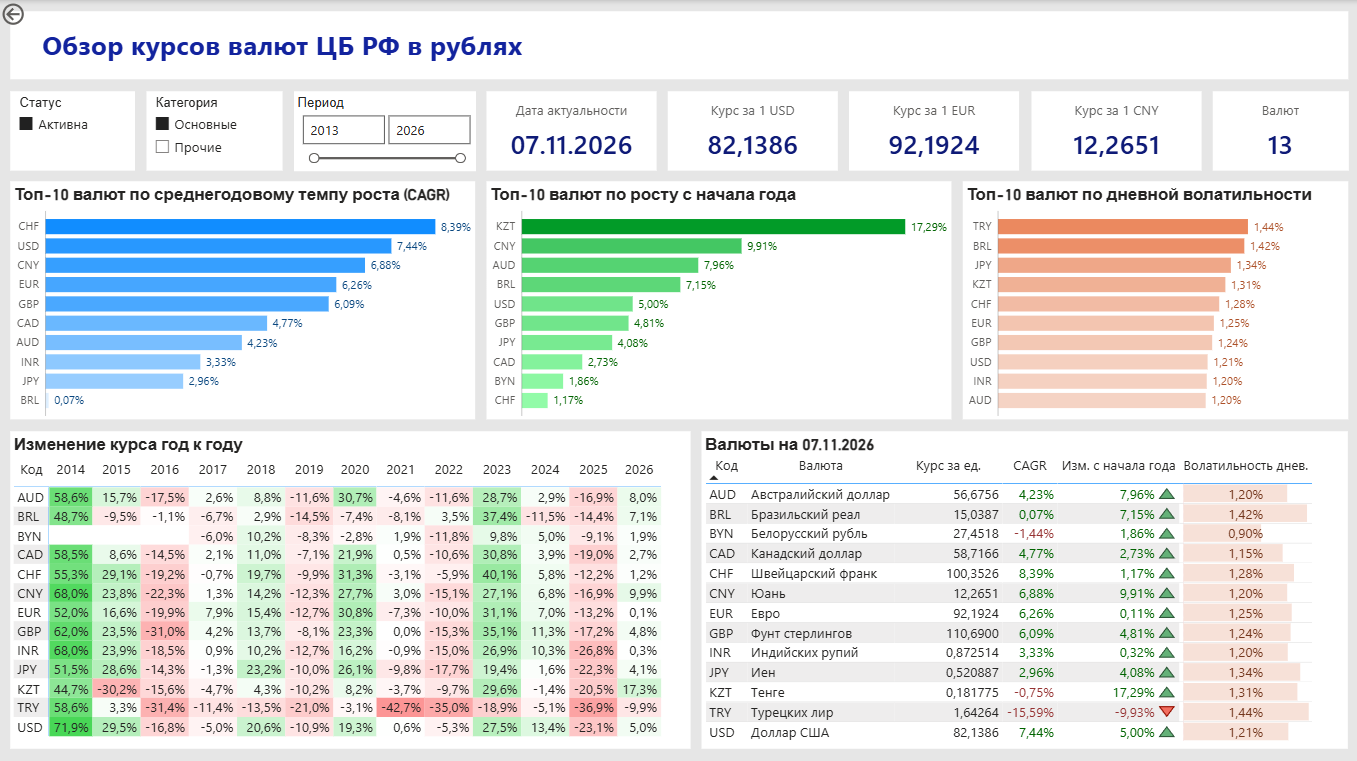

Layout of this report page (visuals, bound fields, positions):
{"tool":"powerbi","page":{"name":"Обзор рынка","canvas":[1920,1080],"ordinal":0},"visuals":[{"type":"textbox","box":[16,16,1888,96],"z":0},{"type":"slicer","fields":{"Values":["Валюты.Статус"]},"box":[16,128,176,112],"z":1000},{"type":"tableEx","fields":{"Values":["Валюты.Код валюты","Валюты.Наименование валюты","_Меры.Текущий курс","_Меры.CAGR с фильтр","_Меры.Изменение с начала года","_Меры.Волатильность (дневная)"]},"box":[992,608,912,448],"z":3000},{"type":"pivotTable","title":"Изменение курса год к году","fields":{"Columns":["Календарь.Год"],"Rows":["Валюты.Код валюты"],"Values":["_Меры.YoY % (конец года)"]},"box":[16,608,960,448],"z":4000},{"type":"barChart","title":"Топ-10 валют по дневной волатильности","fields":{"Category":["Валюты.Код валюты"],"Y":["_Меры.Волатильность (дневная)"]},"box":[1360,256,544,336],"z":5000},{"type":"actionButton","box":[0,0,100,40],"z":6000},{"type":"cardVisual","fields":{"Data":["_Меры.Текущий курс USD"]},"box":[944,128,240,112],"z":7000},{"type":"cardVisual","title":"Дата","fields":{"Data":["_Меры.Заголовок дата"]},"box":[688,128,240,112],"z":8000},{"type":"cardVisual","fields":{"Data":["_Меры.Текущий курс EUR"]},"box":[1200,128,240,112],"z":9000},{"type":"cardVisual","fields":{"Data":["_Меры.Текущий курс CNY"]},"box":[1456,128,240,112],"z":10000},{"type":"barChart","title":"Топ-10 валют по росту с начала года","fields":{"Category":["Валюты.Код валюты"],"Y":["_Меры.Изменение с начала года"]},"box":[688,256,656,336],"z":11000},{"type":"slicer","fields":{"Values":["Валюты.Категория"]},"box":[208,128,192,112],"z":12000},{"type":"barChart","title":"Топ-10 валют по среднегодовому темпу роста (CAGR)","fields":{"Category":["Валюты.Код валюты"],"Y":["_Меры.CAGR с фильтр"]},"box":[16,256,656,336],"z":13000},{"type":"cardVisual","fields":{"Data":["_Меры.Количество валют"]},"box":[1712,128,192,112],"z":14000},{"type":"slicer","title":"Период","fields":{"Values":["Календарь.Год"]},"box":[416,128,256,112],"z":15000}]}

Visuals, with their boxes in screenshot pixels (x1, y1, x2, y2), scaled from the page's 1920x1080 canvas onto the 1357x761 screenshot:
textbox: [left=11, top=11, right=1346, bottom=79]
slicer - Валюты.Статус: [left=11, top=90, right=136, bottom=169]
tableEx - Валюты.Код валюты x Валюты.Наименование валюты: [left=701, top=428, right=1346, bottom=744]
"Изменение курса год к году" pivotTable: [left=11, top=428, right=690, bottom=744]
"Топ-10 валют по дневной волатильности" barChart: [left=961, top=180, right=1346, bottom=417]
actionButton: [left=0, top=0, right=71, bottom=28]
cardVisual - _Меры.Текущий курс USD: [left=667, top=90, right=837, bottom=169]
"Дата" cardVisual: [left=486, top=90, right=656, bottom=169]
cardVisual - _Меры.Текущий курс EUR: [left=848, top=90, right=1018, bottom=169]
cardVisual - _Меры.Текущий курс CNY: [left=1029, top=90, right=1199, bottom=169]
"Топ-10 валют по росту с начала года" barChart: [left=486, top=180, right=950, bottom=417]
slicer - Валюты.Категория: [left=147, top=90, right=283, bottom=169]
"Топ-10 валют по среднегодовому темпу роста (CAGR)" barChart: [left=11, top=180, right=475, bottom=417]
cardVisual - _Меры.Количество валют: [left=1210, top=90, right=1346, bottom=169]
"Период" slicer: [left=294, top=90, right=475, bottom=169]
